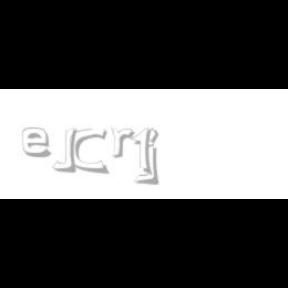1: (131, 128, 153, 176)
C: (70, 128, 108, 174)
J: (51, 128, 76, 172)
e: (22, 128, 55, 158)
j: (144, 128, 172, 186)
r: (110, 128, 138, 158)
